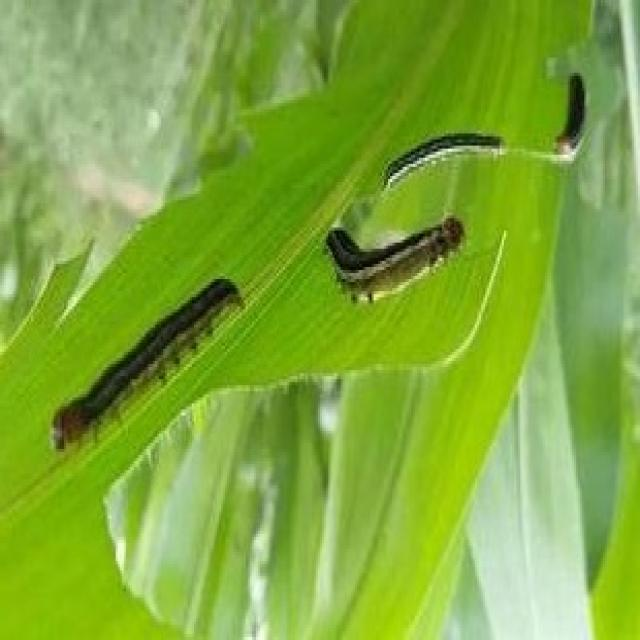army worm: (47, 276, 248, 467), (314, 212, 469, 306), (377, 129, 509, 202), (554, 67, 593, 167)
